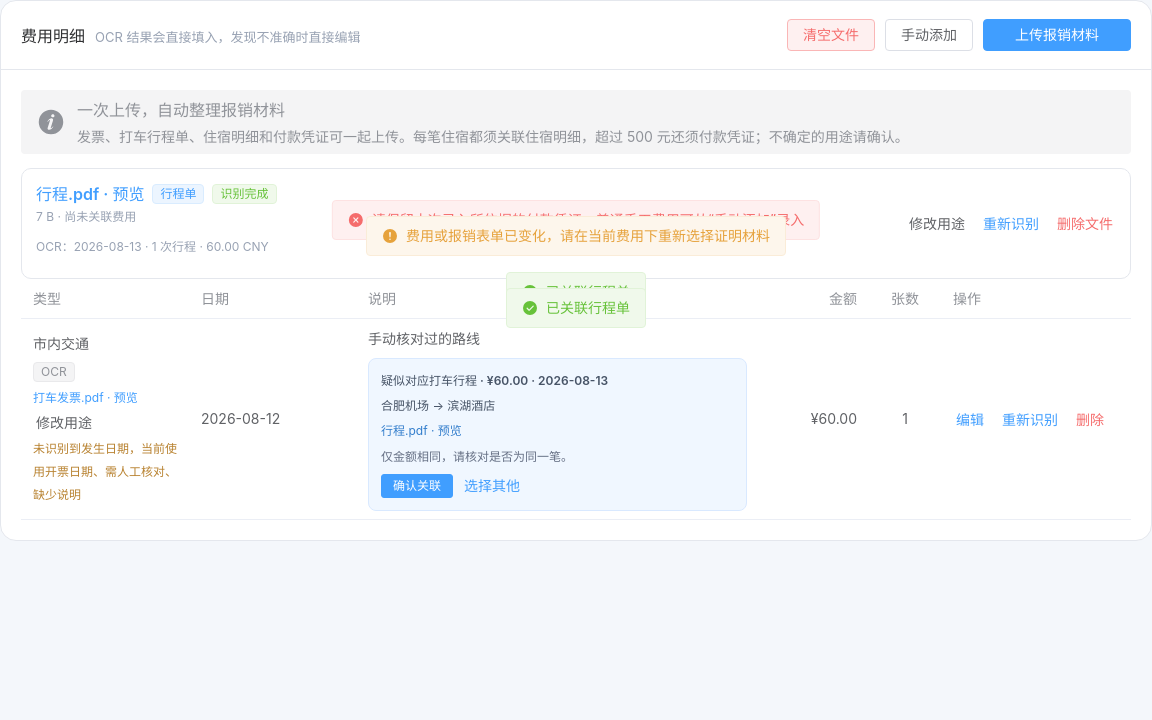
Scenario: ExpenseItemsCard durable files › confirms an amount-only proposal with one click and preserves edits (true)
This screenshot has width=1152, height=720.
Click the button "确认关联": (417, 486) [381, 474, 453, 498]
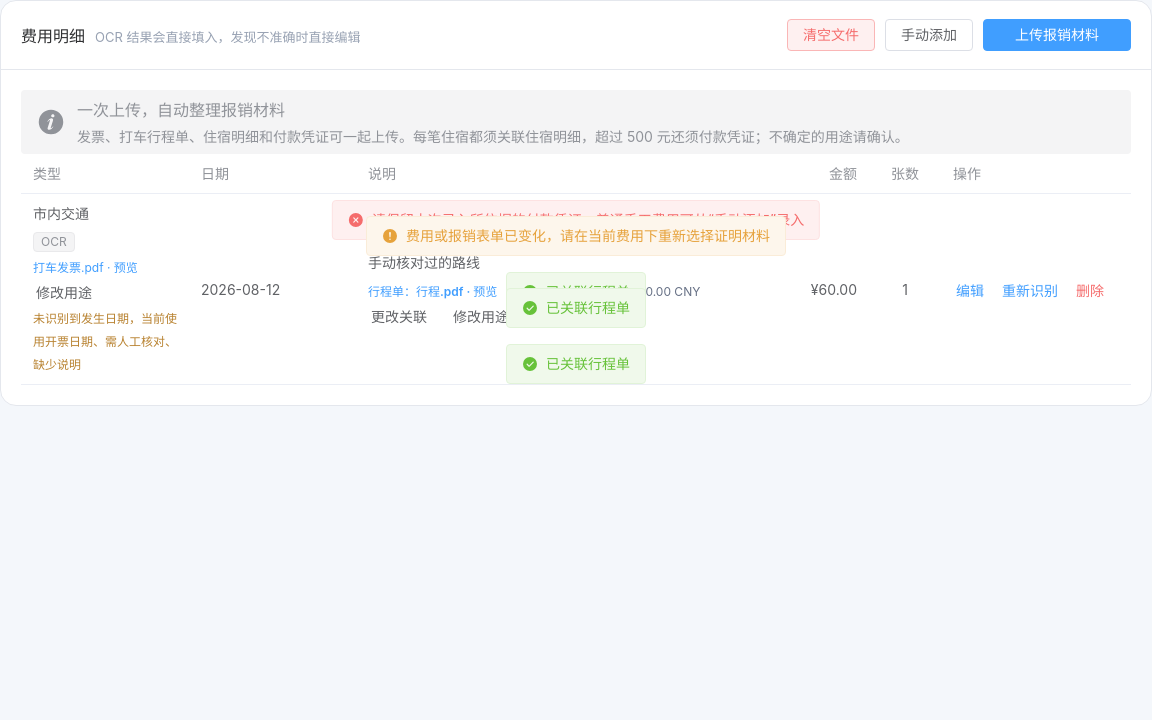
Check: the text "手动核对过的路线" is shown, box [368, 254, 480, 271]
Check: no elements with class "itinerary-suggestion" are shown
